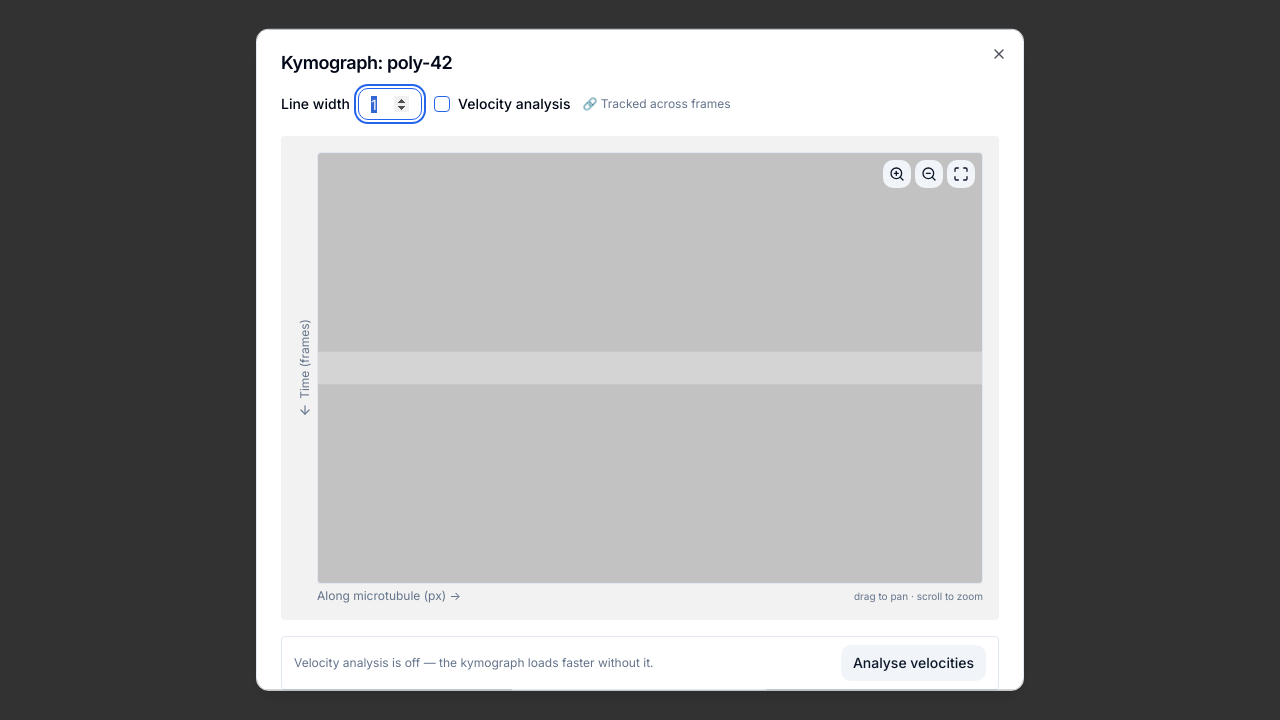
KymographModal › Refetch scope › does not re-request anything when velocity analysis is switched off
Click the button "Analyse velocities" at [913, 663], box [841,645,986,681]
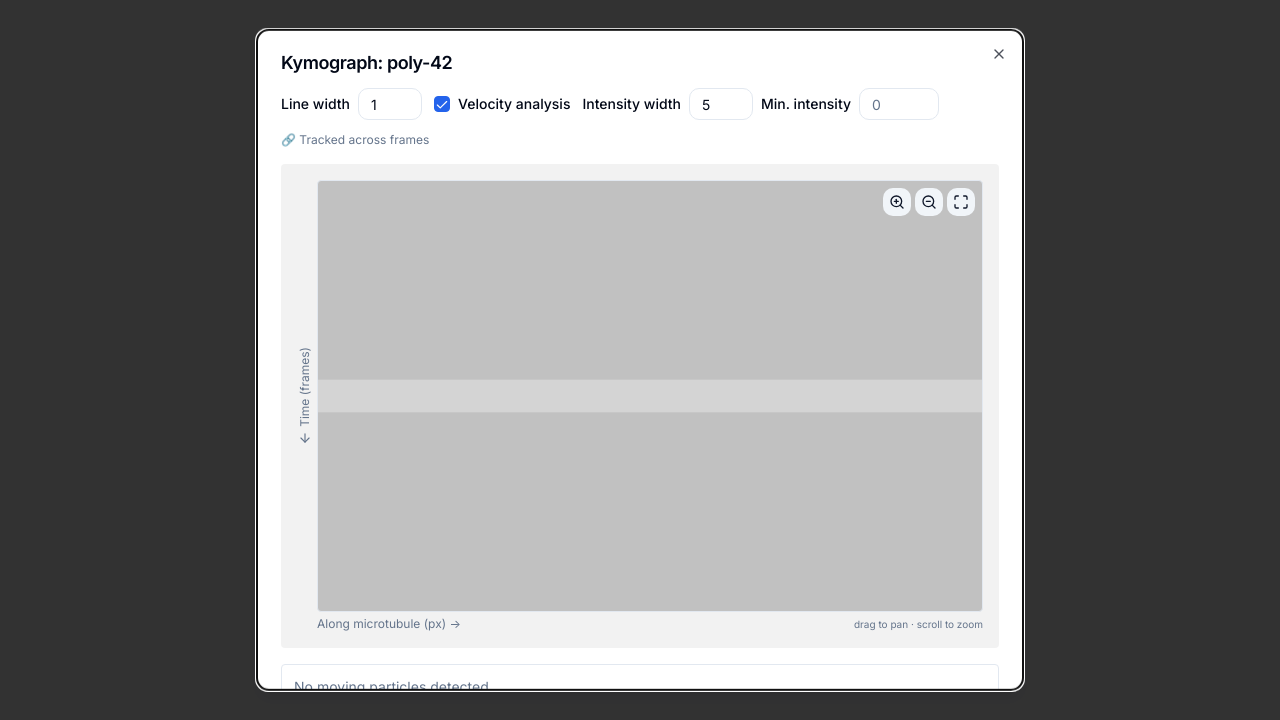
Click the checkbox named "Velocity analysis" at [442, 104], box [434,96,450,112]
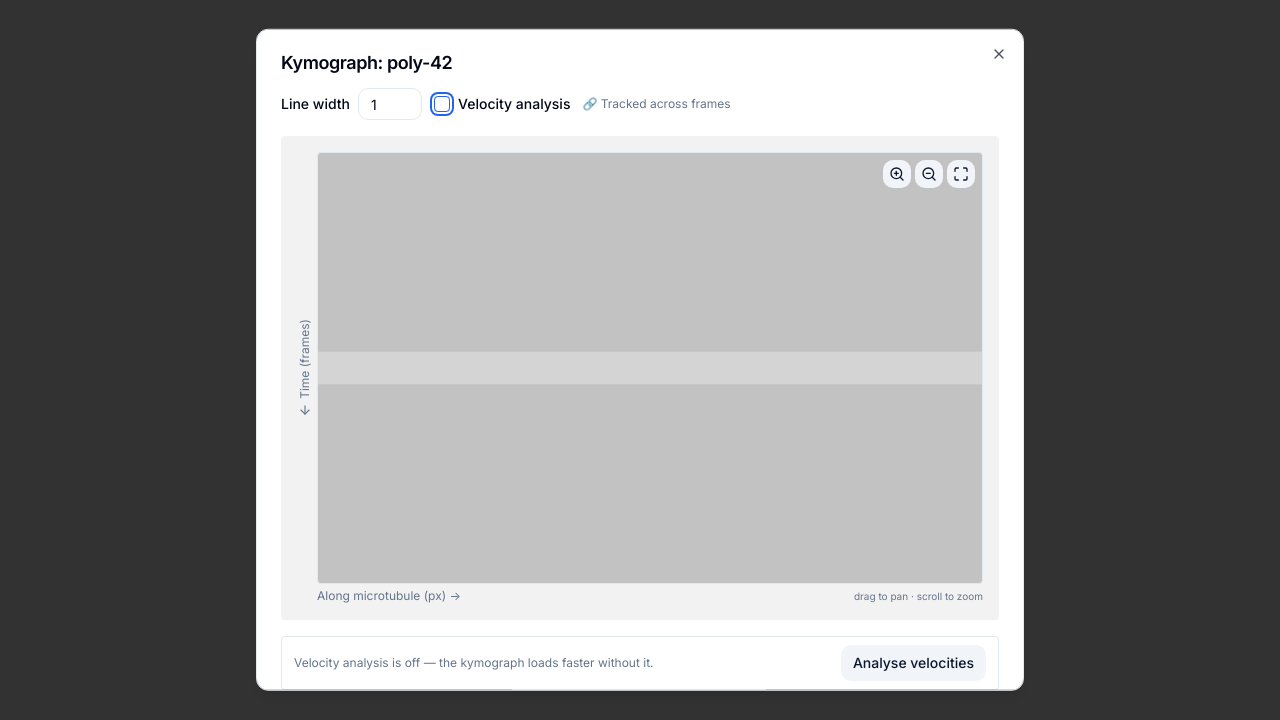
Now the button "Analyse velocities" is shown, box [841,645,986,681]
